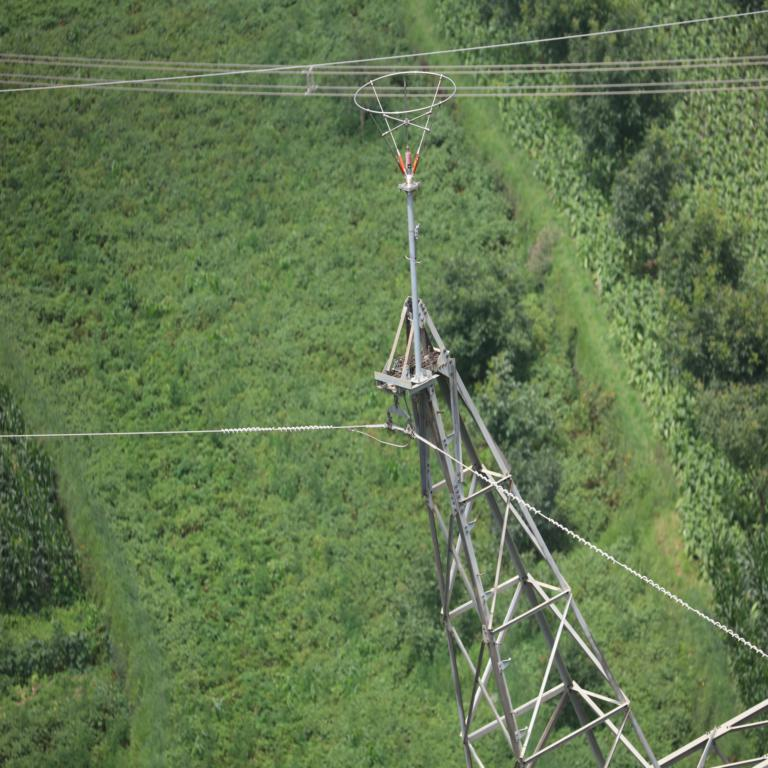nest: (398, 350, 441, 369)
